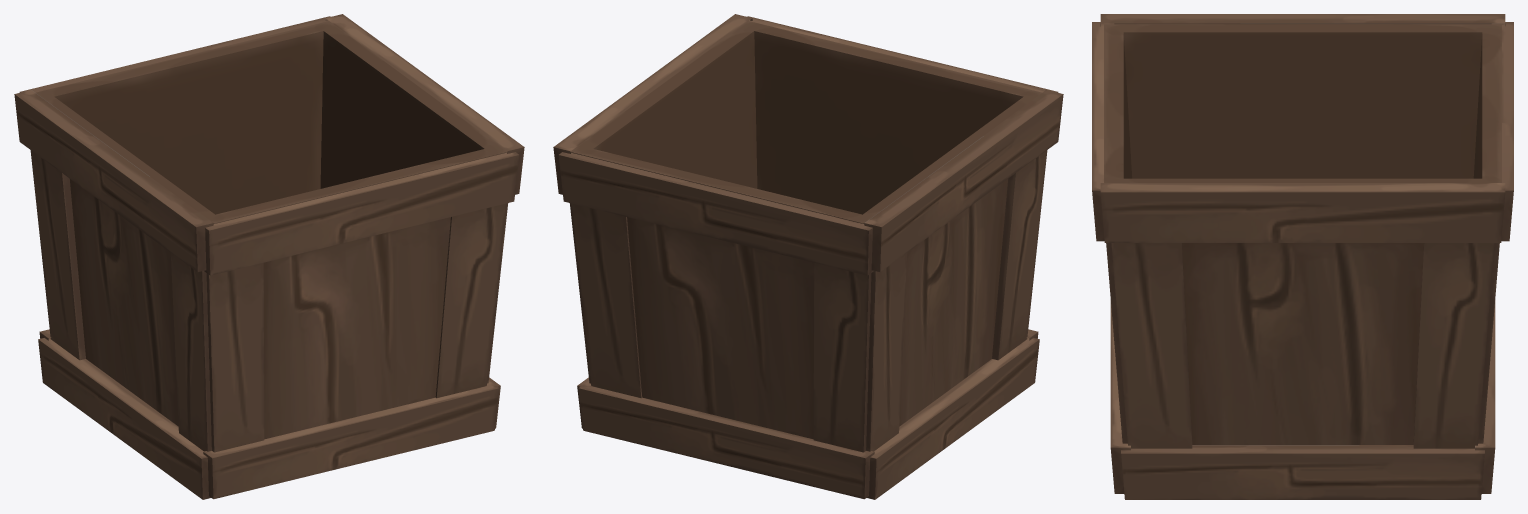
File: GraffitiBox.fbx
3 renders of one model, left to right at view 1: azimuth 30°, elevation 25°; view 2: azimuth 150°, elevation 25°; view 3: azimuth 270°, elevation 25°, orthographic. The views are drawn at different scales.
Visible parts, largest first — view 1: Object008; view 2: Object008; view 3: Object008.
Part boxes in pixels (x1,y1,x2,y2): Object008: (14, 14, 524, 499); Object008: (553, 14, 1063, 499); Object008: (1092, 14, 1513, 499).
Bounding box in the file's own units: 30 × 24.97 × 30.
